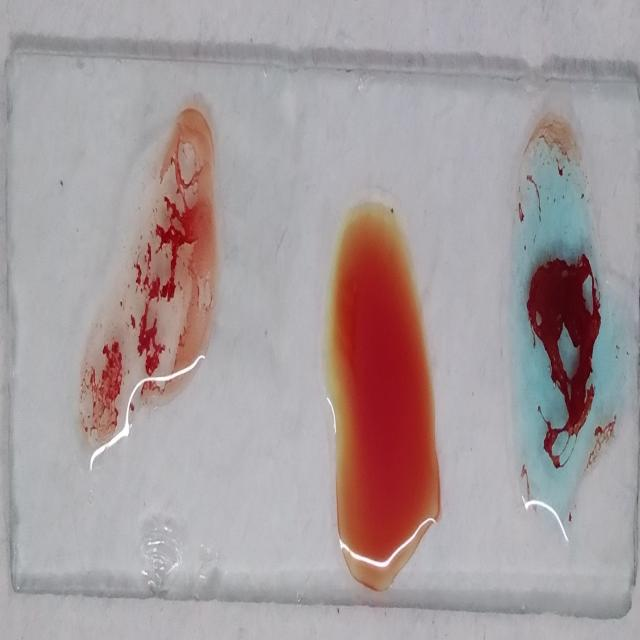A: (515, 123, 612, 524)
D: (78, 145, 218, 457)
